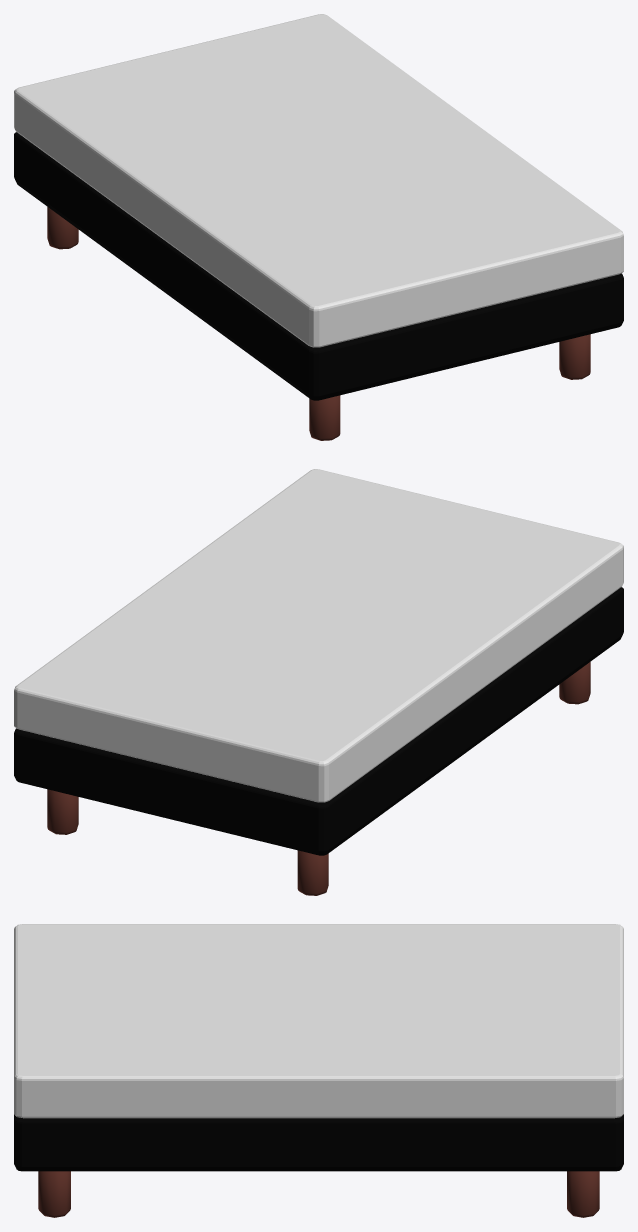
The model's file is Bed.fbx.
3 views of the same model, one above another, from view 1: azimuth 30°, elevation 25°; view 2: azimuth 150°, elevation 25°; view 3: azimuth 270°, elevation 25° (orthographic).
Visible parts, largest first — view 1: SM_Bed; view 2: SM_Bed; view 3: SM_Bed.
Boxes of the visible parts, x1,y1,x2,y2 form: SM_Bed: [14, 14, 623, 440]; SM_Bed: [14, 469, 623, 895]; SM_Bed: [14, 924, 623, 1217].
Size of the model in its own units: 180 by 81.77 by 300.
